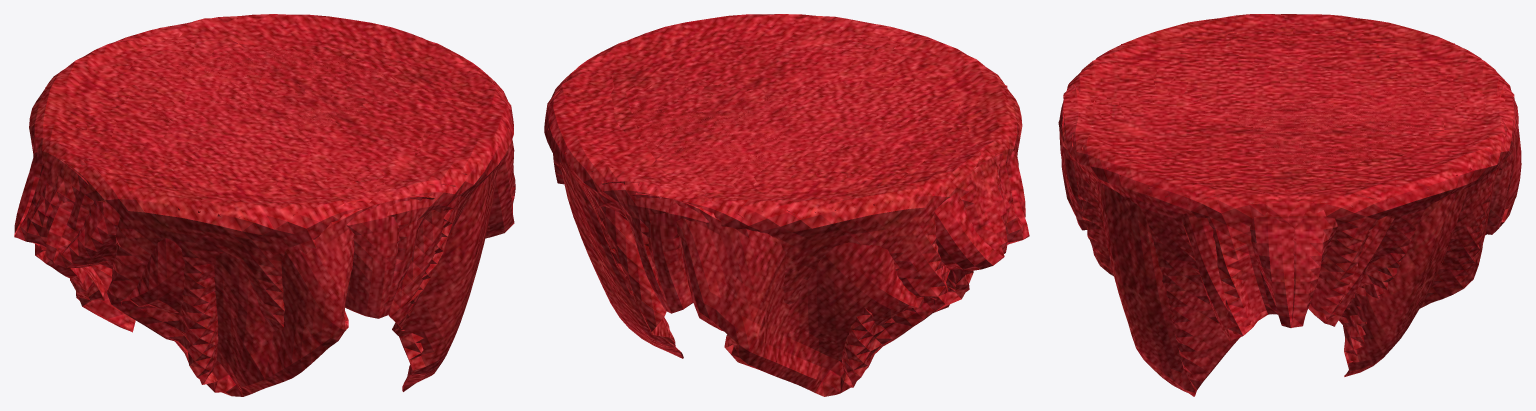
The model's file is tablecloth.obj.
The picture shows the model from 3 angles, left to right: view 1: azimuth 30°, elevation 25°; view 2: azimuth 150°, elevation 25°; view 3: azimuth 270°, elevation 25°; orthographic projection. The views are drawn at different scales.
Size of the model in its own units: 465 by 253 by 415.
1 material, 1 textured.
